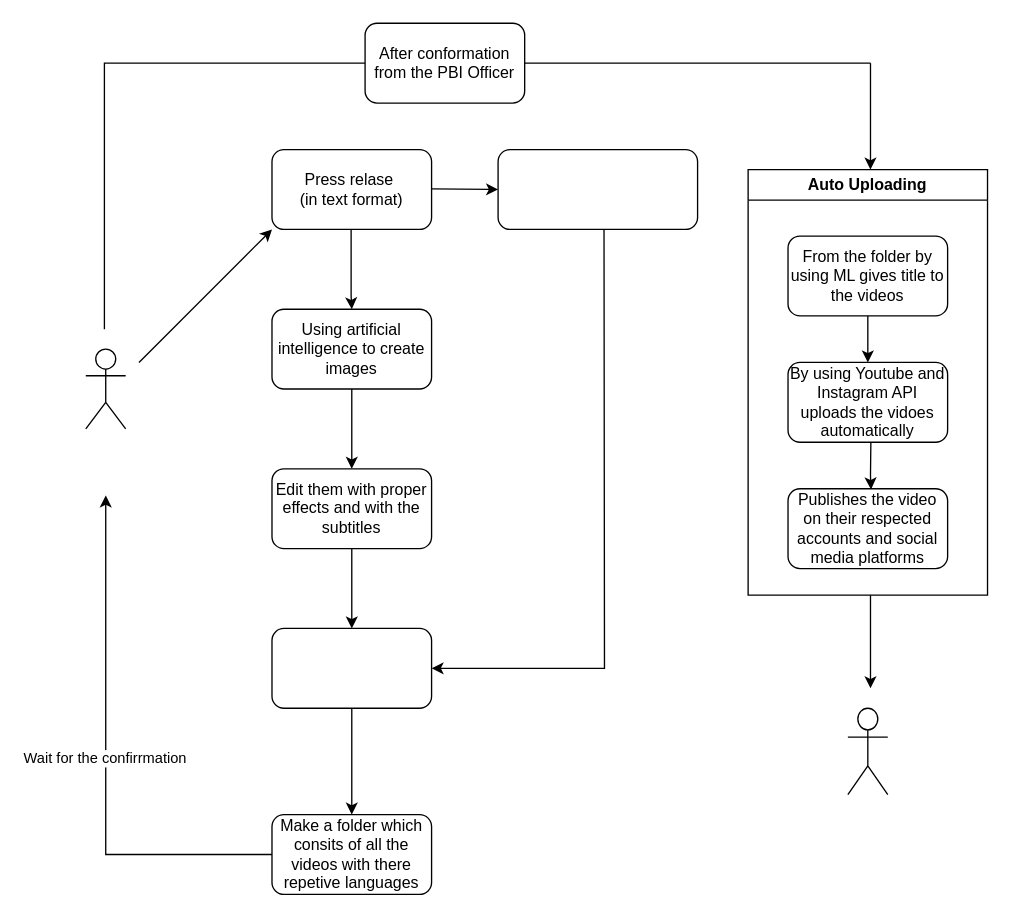
Image size: 1011x918. Some labels were removed from this diagram. The centre of each missing label's shape, as x and y in pixels:
"Converts the text format into 13 Regional Languages audios using gTTS." belongs at point (597, 188).
"Merge all of them using python" belongs at point (351, 667).
"PBI Officer" belongs at point (105, 388).
"User" belongs at point (867, 751).
